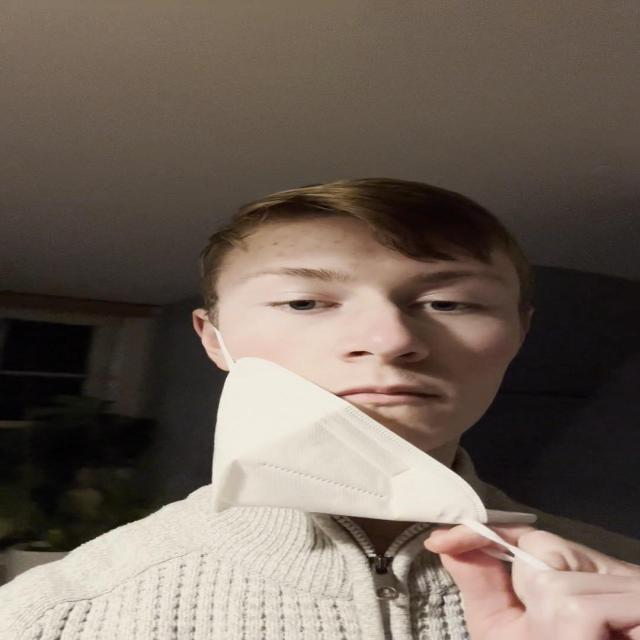no-helmet: (174, 176, 534, 492)
